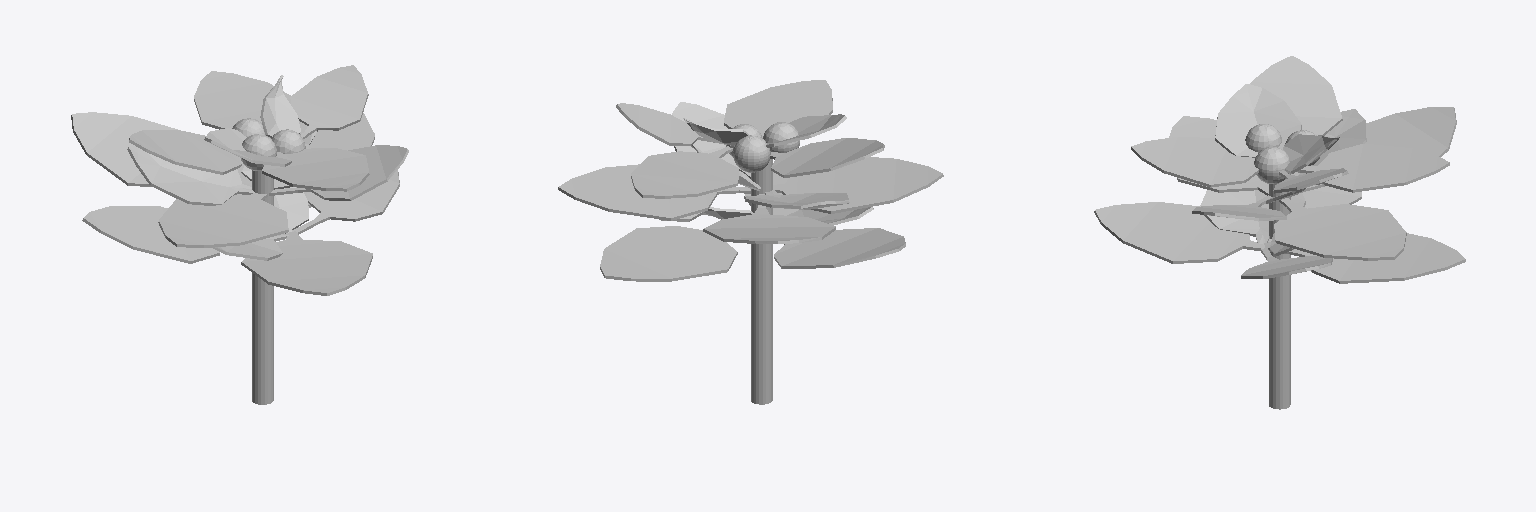
Rendered from berry.obj.
3 renders of one model, left to right at view 1: azimuth 30°, elevation 25°; view 2: azimuth 150°, elevation 25°; view 3: azimuth 270°, elevation 25°, orthographic.
Parts seen in each view (by area): view 1: Plantain:plantain, plantain, plantain1, pCylinder1, pSphere4, pSphere3; view 2: Plantain:plantain, plantain, plantain1, pCylinder1, pSphere2, pSphere4; view 3: plantain, plantain1, Plantain:plantain, pCylinder1, pSphere3, pSphere4.
Part boxes in pixels (x1,y1,x2,y2): Plantain:plantain: (71, 112, 408, 247); plantain: (129, 65, 369, 191); plantain1: (82, 157, 399, 295); pCylinder1: (252, 170, 273, 404); pSphere4: (241, 134, 276, 170); pSphere3: (271, 129, 305, 153); Plantain:plantain: (558, 102, 943, 243); plantain: (616, 80, 884, 198); plantain1: (600, 157, 905, 281); pCylinder1: (751, 159, 772, 404); pSphere2: (733, 135, 770, 172); pSphere4: (763, 122, 799, 152); plantain: (1131, 56, 1449, 193); plantain1: (1094, 186, 1465, 283); Plantain:plantain: (1169, 107, 1456, 260); pCylinder1: (1269, 173, 1290, 409); pSphere3: (1254, 147, 1289, 183); pSphere4: (1245, 124, 1281, 152).
Bounding box in the file's own units: 0.9341 × 0.8514 × 0.9832.